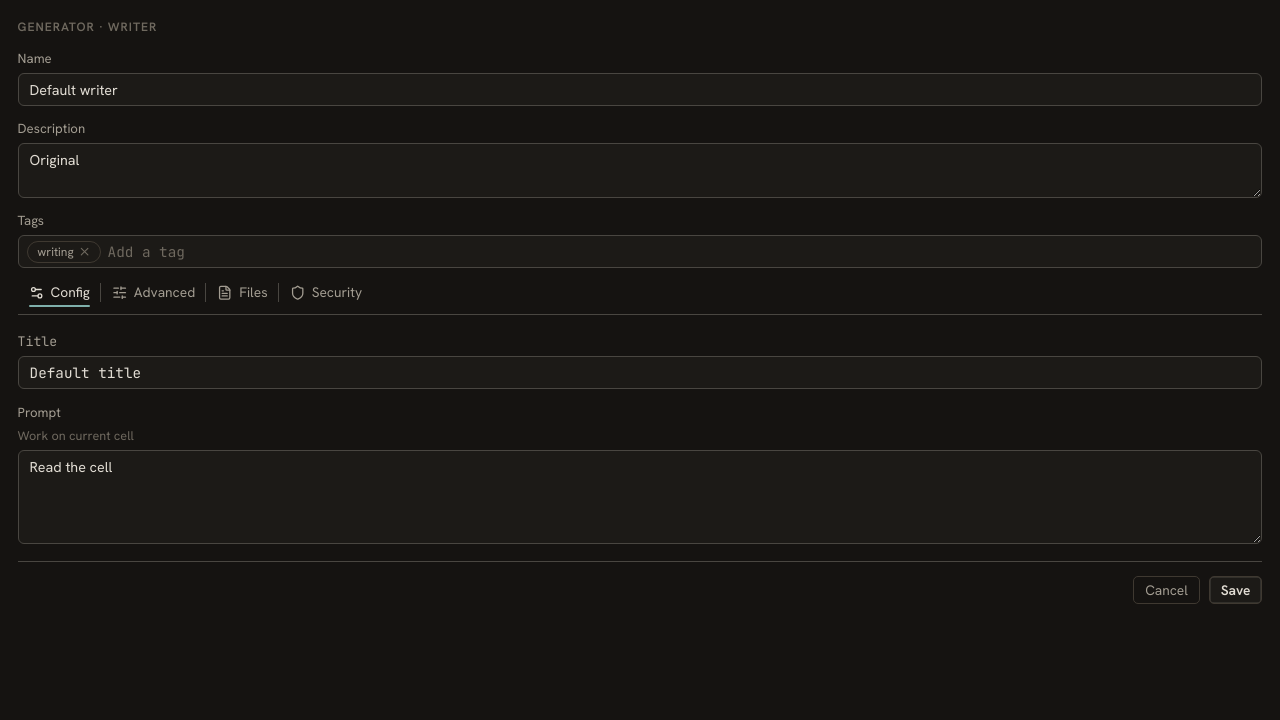
Test case: Shared RunnerEditor › reads the Commands levels from the vocabulary API
Click the tab "Security": (326, 292) 279,282 -> 373,302
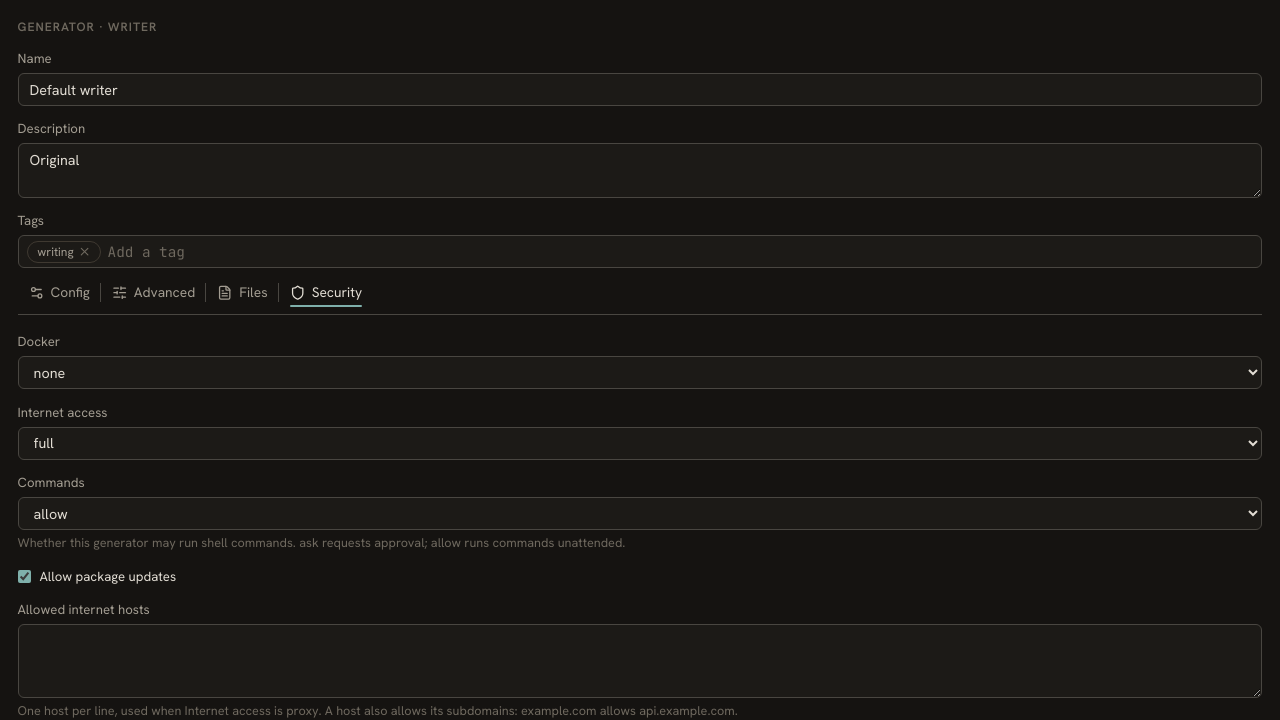
Result: the dropdown labelled "Docker" is shown at 18,356 -> 1262,389
Result: the dropdown labelled "Commands" shows "allow" at 18,497 -> 1262,530
